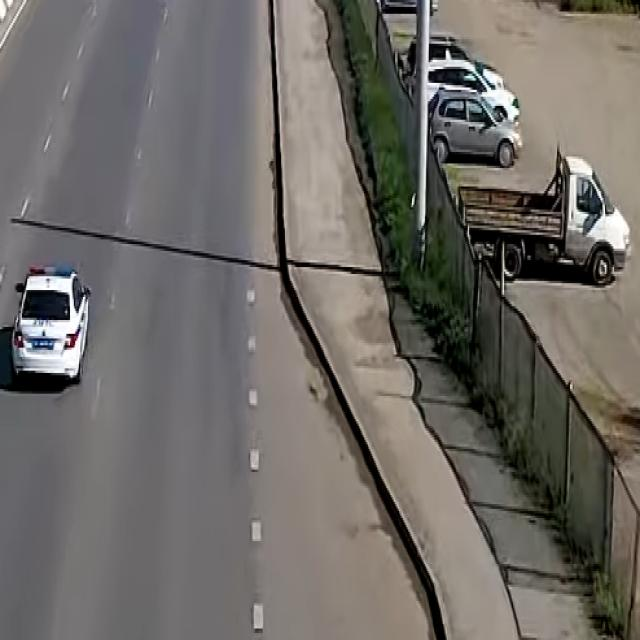non emergency car: (458, 143, 634, 282), (429, 87, 524, 170), (428, 58, 522, 125)
police car: (12, 265, 91, 391)
